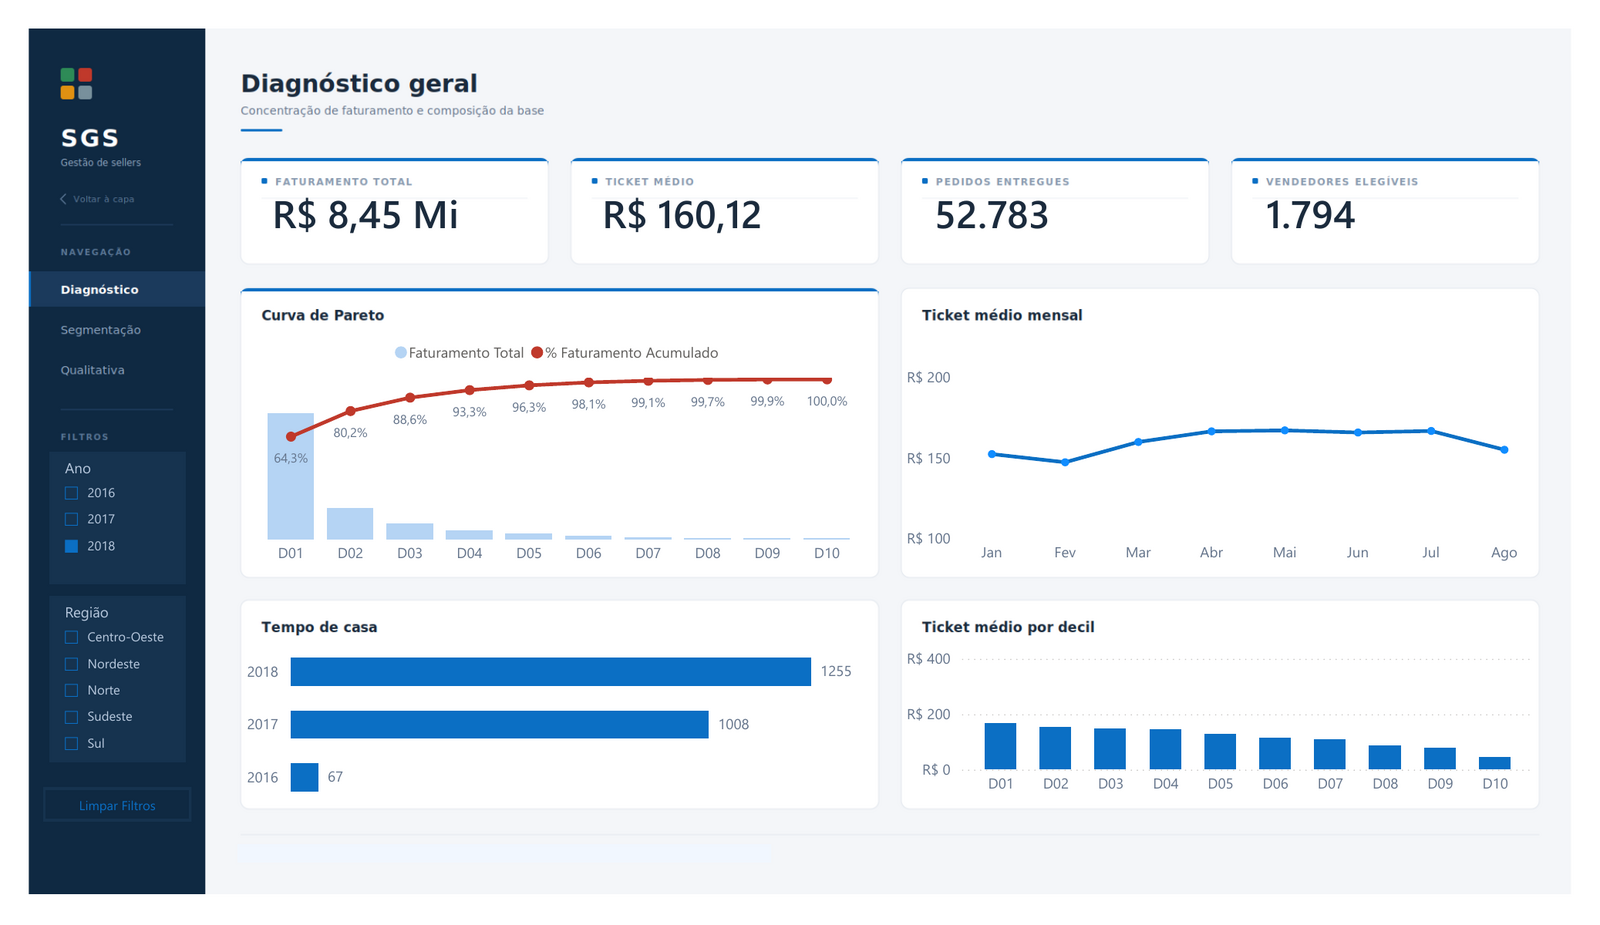

The page's visual inventory and layout, read from the dashboard file:
{"tool":"powerbi","page":{"name":"Diagnóstico","canvas":[1280,720],"ordinal":1},"visuals":[{"type":"shape","box":[173,677,442.5,15],"z":0},{"type":"cardVisual","fields":{"Data":["_Medidas.Faturamento Total"]},"box":[173.3,108.7,258,84.7],"z":1000},{"type":"cardVisual","fields":{"Data":["_Medidas.Ticket Médio"]},"box":[446.7,108.7,260,84.7],"z":2000},{"type":"cardVisual","fields":{"Data":["_Medidas.Qtd Pedidos"]},"box":[722.7,108.7,254.7,84.7],"z":3000},{"type":"cardVisual","fields":{"Data":["_Medidas.Qtd Vendedores Elegíveis"]},"box":[998,108.7,256,84.7],"z":4000},{"type":"clusteredColumnChart","fields":{"Category":["dVendedor.Decil Faturamento"],"Y":["_Medidas.Ticket Médio"]},"box":[722.7,509.1,530.9,136.4],"z":5000},{"type":"clusteredBarChart","fields":{"Category":["dVendedor.Primeiro Pedido.Variation.Hierarquia de datas.Ano"],"Y":["_Medidas.Qtd Vendedores Ativos"]},"box":[173.6,509.3,530.7,136.4],"z":7000},{"type":"lineClusteredColumnComboChart","fields":{"Category":["dVendedor.Decil Faturamento"],"Y":["_Medidas.Faturamento Total"],"Y2":["_Medidas.% Faturamento Acumulado"]},"box":[173.1,249.2,533.8,204.6],"z":8000},{"type":"slicer","fields":{"Values":["dCalendario.Ano"]},"box":[16.7,351.4,112.9,109.5],"z":9000},{"type":"slicer","fields":{"Values":["dVendedor.Região"]},"box":[16.7,470.7,112.9,138.6],"z":10000},{"type":"actionButton","box":[11.5,629.5,123,28.5],"z":11000},{"type":"actionButton","box":[0,201.7,146.5,31.3],"z":12000},{"type":"actionButton","box":[0,233.5,146.5,31.3],"z":13000},{"type":"actionButton","box":[0,267.8,146.5,31.3],"z":14000},{"type":"actionButton","box":[0,127.4,146.5,31.3],"z":15000},{"type":"lineChart","fields":{"Category":["dCalendario.NomeMesAbreviado"],"Y":["_Medidas.Ticket Médio"]},"box":[722.9,248.6,531.4,204.3],"z":15001}]}

Visuals, with their boxes on the page's 1280x720 design canvas (x1, y1, x2, y2). These are canvas units, not pixel positions in the 1600x925 screenshot, which may show the page scaled, cropped or inside an application window:
shape: 173/677/616/692
cardVisual - _Medidas.Faturamento Total: 173/109/431/193
cardVisual - _Medidas.Ticket Médio: 447/109/707/193
cardVisual - _Medidas.Qtd Pedidos: 723/109/977/193
cardVisual - _Medidas.Qtd Vendedores Elegíveis: 998/109/1254/193
clusteredColumnChart - dVendedor.Decil Faturamento x _Medidas.Ticket Médio: 723/509/1254/646
clusteredBarChart - dVendedor.Primeiro Pedido.Variation.Hierarquia de datas.Ano x _Medidas.Qtd Vendedores Ativos: 174/509/704/646
lineClusteredColumnComboChart - dVendedor.Decil Faturamento x _Medidas.Faturamento Total: 173/249/707/454
slicer - dCalendario.Ano: 17/351/130/461
slicer - dVendedor.Região: 17/471/130/609
actionButton: 12/630/134/658
actionButton: 0/202/146/233
actionButton: 0/234/146/265
actionButton: 0/268/146/299
actionButton: 0/127/146/159
lineChart - dCalendario.NomeMesAbreviado x _Medidas.Ticket Médio: 723/249/1254/453
